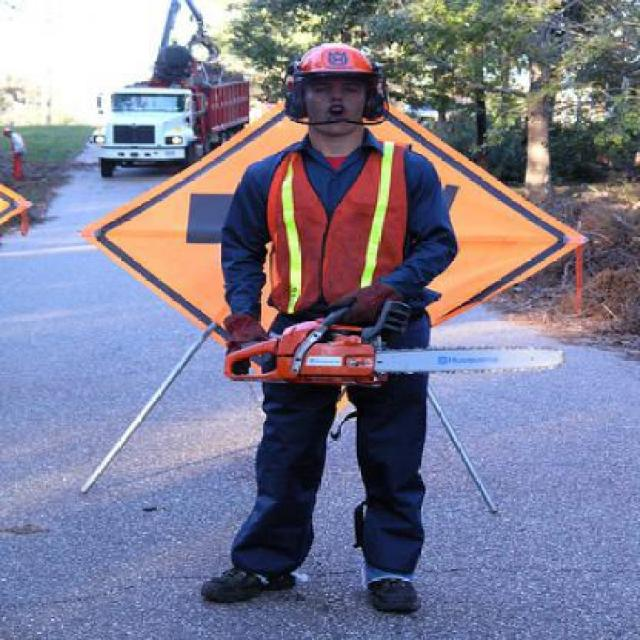Chainsaw: (225, 298, 567, 388)
